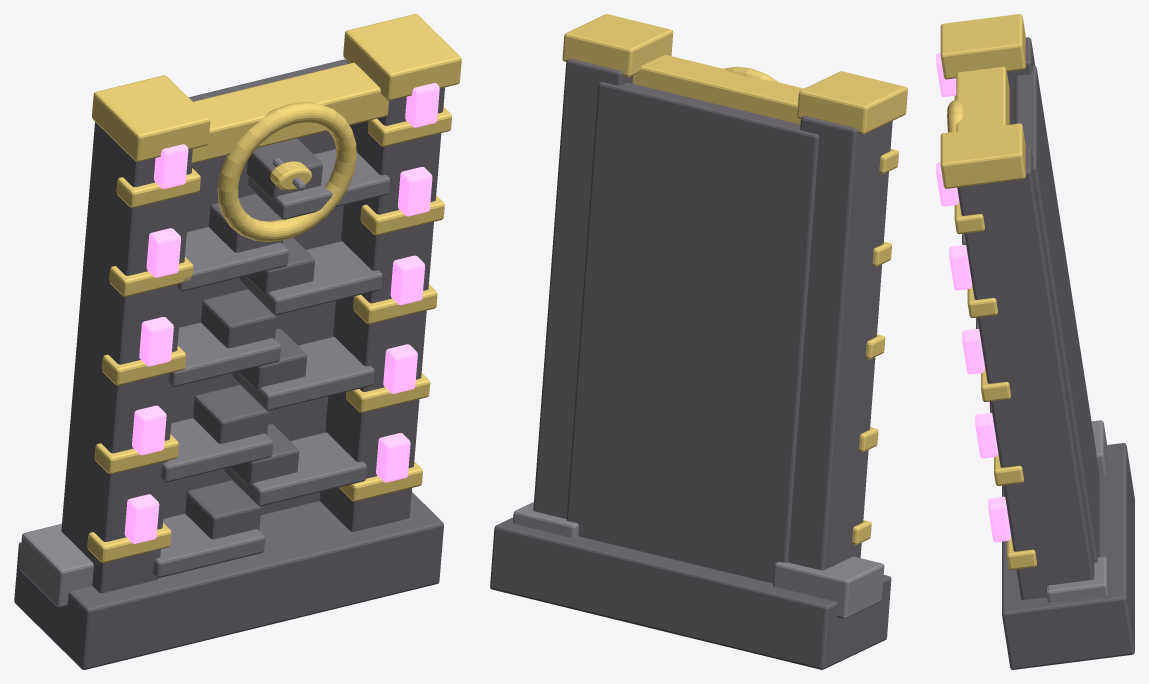
File: SM_HeistStairs.fbx
3 renders of one model, left to right at view 1: azimuth 30°, elevation 25°; view 2: azimuth 150°, elevation 25°; view 3: azimuth 270°, elevation 25°, orthographic. The views are drawn at different scales.
Visible parts, largest first — view 1: SM_HeistStairs; view 2: SM_HeistStairs; view 3: SM_HeistStairs.
Boxes of the visible parts, <box> form: SM_HeistStairs: <box>14,14,461,669</box>; SM_HeistStairs: <box>490,14,907,669</box>; SM_HeistStairs: <box>936,14,1134,669</box>.
Size of the model in its own units: 2.11 by 3.13 by 1.1.
